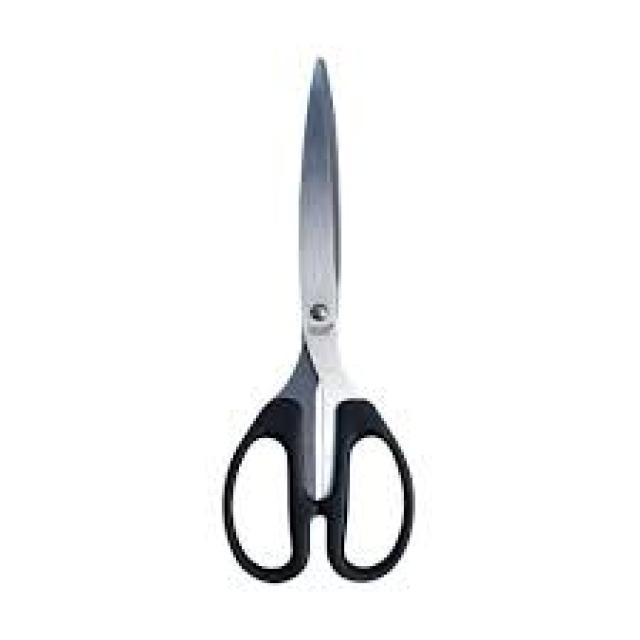Scissors: (203, 34, 431, 598)
